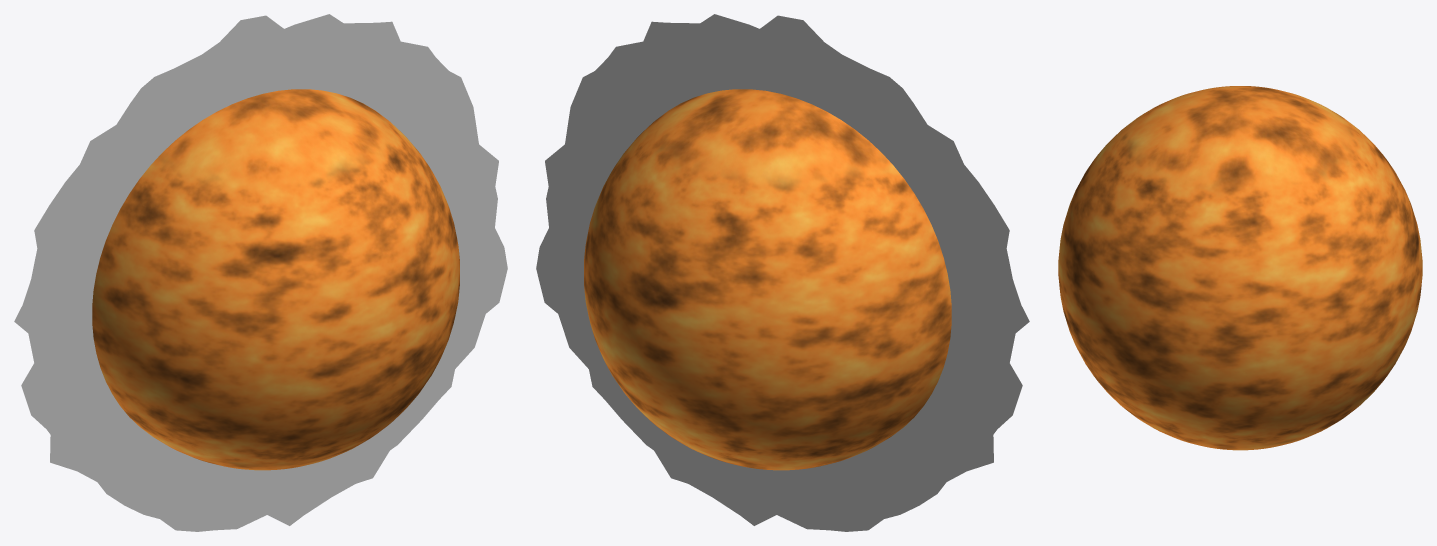
File: sun1.fbx
The picture shows the model from 3 angles, left to right: view 1: azimuth 30°, elevation 25°; view 2: azimuth 150°, elevation 25°; view 3: azimuth 270°, elevation 25°; orthographic projection. The views are drawn at different scales.
Visible parts, largest first — view 1: sun_high_poly, glow; view 2: sun_high_poly, glow; view 3: sun_high_poly.
Boxes of the visible parts, x1,y1,x2,y2 form: sun_high_poly: (92, 89, 459, 470); glow: (14, 14, 507, 531); sun_high_poly: (584, 89, 951, 470); glow: (536, 14, 1029, 531); sun_high_poly: (1058, 86, 1422, 450).
Bounding box in the file's own units: 144 × 145 × 99.9.
